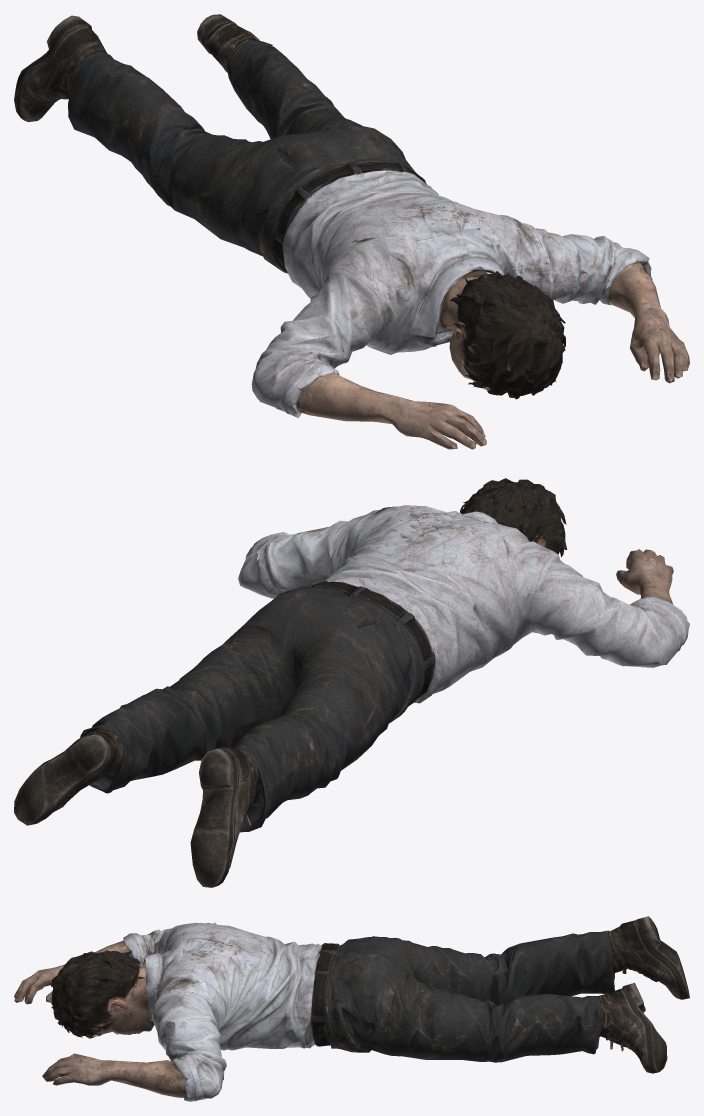
The model's file is corpse4.glb.
The picture shows the model from 3 angles, top to bottom: view 1: azimuth 30°, elevation 25°; view 2: azimuth 150°, elevation 25°; view 3: azimuth 270°, elevation 25°; orthographic projection. The views are drawn at different scales.
Parts seen in each view (by area): view 1: corpse4; view 2: corpse4; view 3: corpse4.
Boxes of the visible parts, x1,y1,x2,y2 form: corpse4: [14, 14, 689, 449]; corpse4: [14, 478, 689, 887]; corpse4: [14, 916, 689, 1101].
Bounding box in the file's own units: 1.01 × 0.2983 × 1.92.
Materials: 1 (1 with a texture image).
